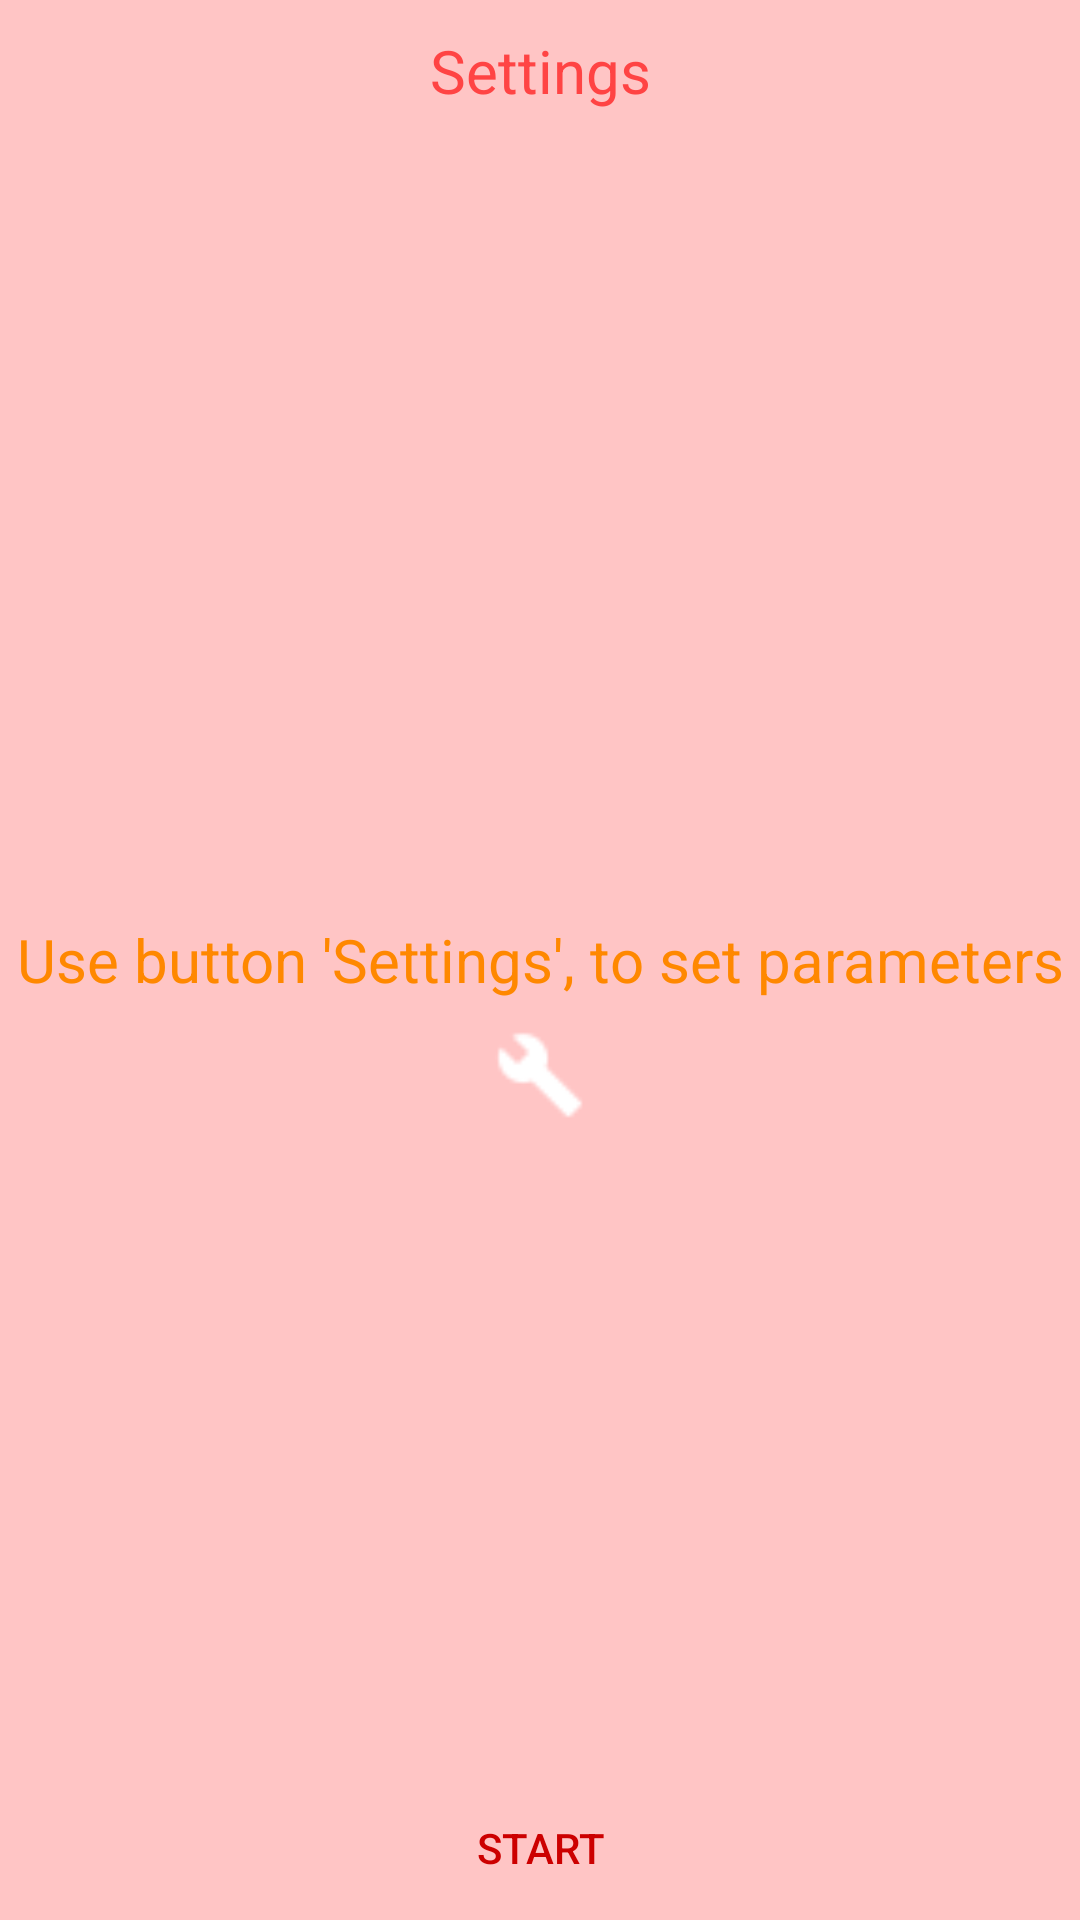

Icons on this 1080px×1920px Android screen, each with the point to tap as (x,y):
build: (539,1075)
